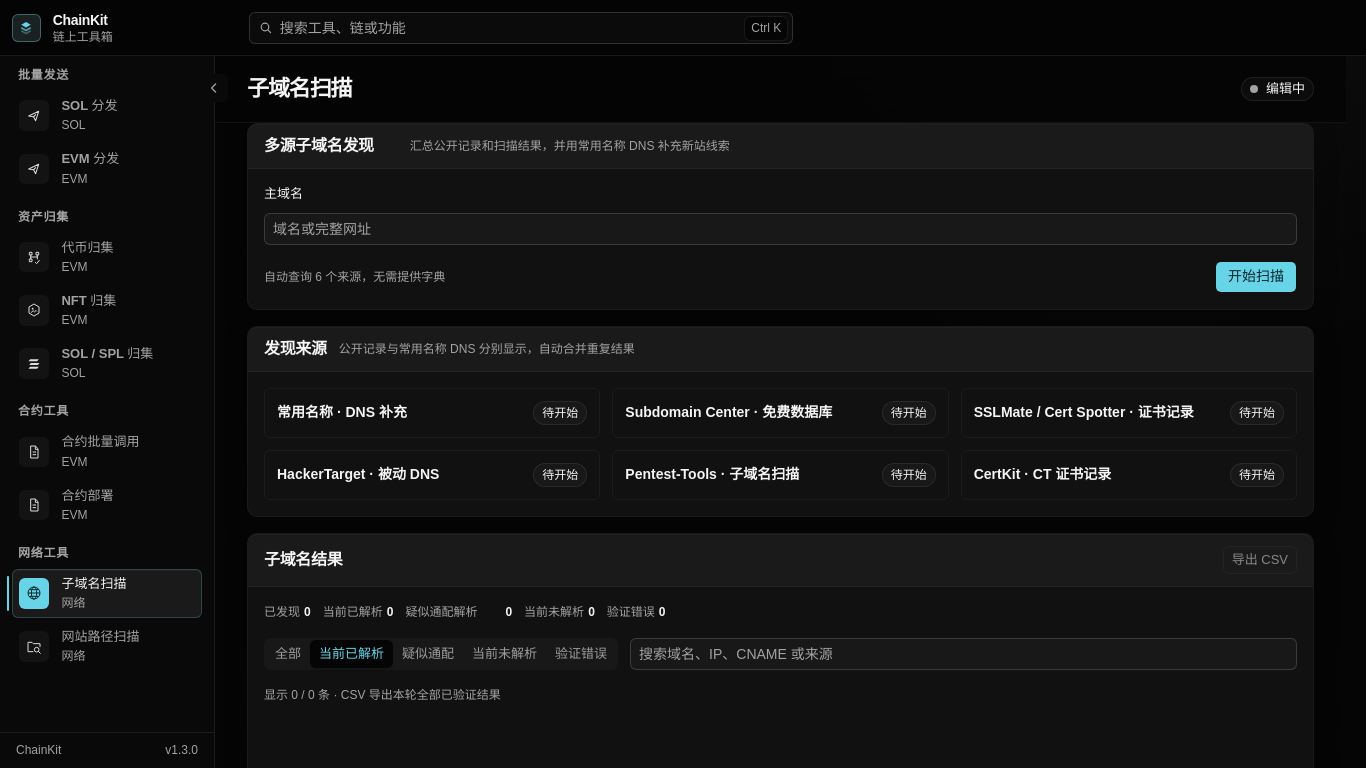
Test case: Subdomain discovery workbench › distinguishes zero discoveries when sources finish with partial
In the field labelled "主域名": {"x": 780, "y": 229} [264,213,1297,245], type "example.com"
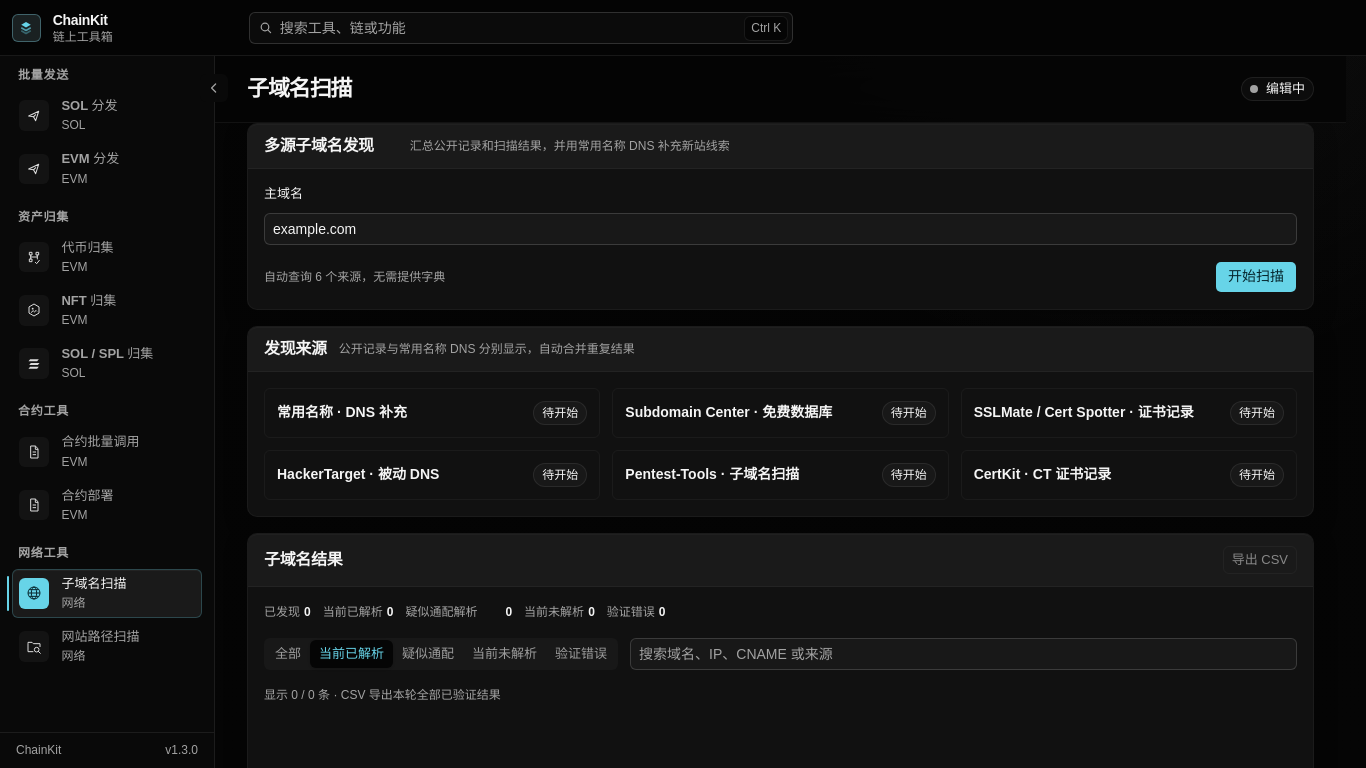
Click the button "开始扫描": {"x": 1256, "y": 277} [1215,261,1297,293]
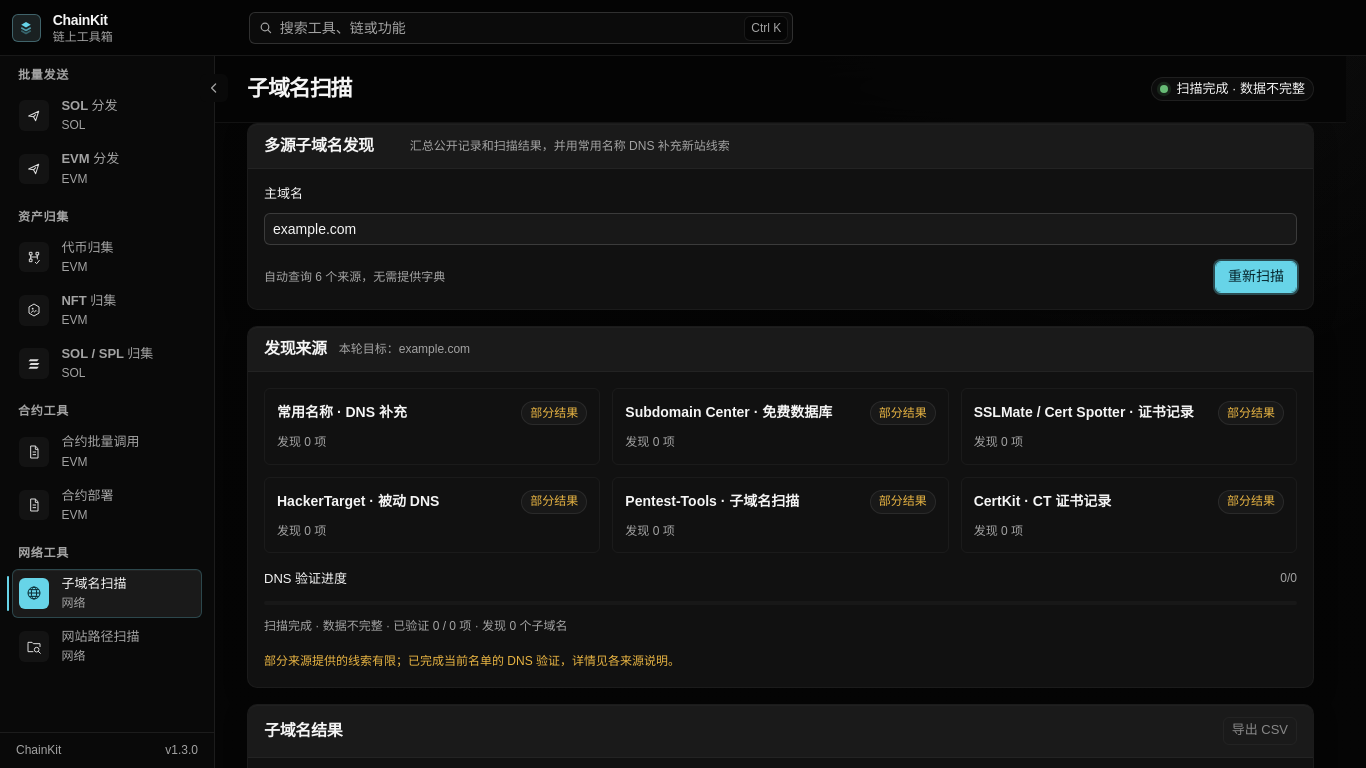
Expected: the button "导出 CSV" is disabled, [1223,716,1297,744]
Now the message "扫描完成 · 数据不完整" is shown, box [1151,77,1314,101]
Now the text "部分来源提供的线索有限；已完成当前名单的 DNS 验证，详情见各来源说明。" is shown, box [264,654,680,668]
